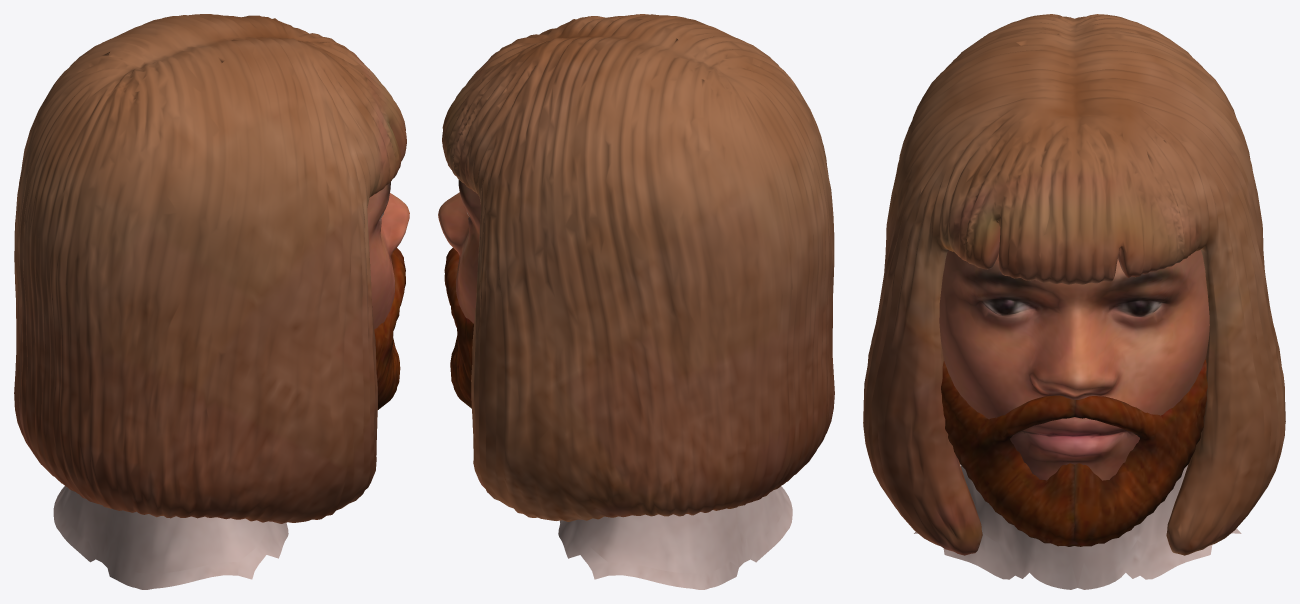
Rendered from Relic.glb.
3 renders of one model, left to right at view 1: azimuth 30°, elevation 25°; view 2: azimuth 150°, elevation 25°; view 3: azimuth 270°, elevation 25°, orthographic. The views are drawn at different scales.
Parts seen in each view (by area): view 1: head; view 2: head; view 3: head.
Boxes of the visible parts, x1,y1,x2,y2 form: head: (14,14,409,589); head: (438,14,834,589); head: (863,14,1285,589).
Bounding box in the file's own units: 0.1969 × 0.2574 × 0.1838.
Materials: 4 (4 with a texture image).
